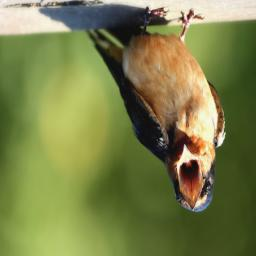Swallow: (85, 6, 228, 214)
